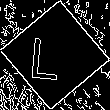L_N: (37, 28, 73, 82)
